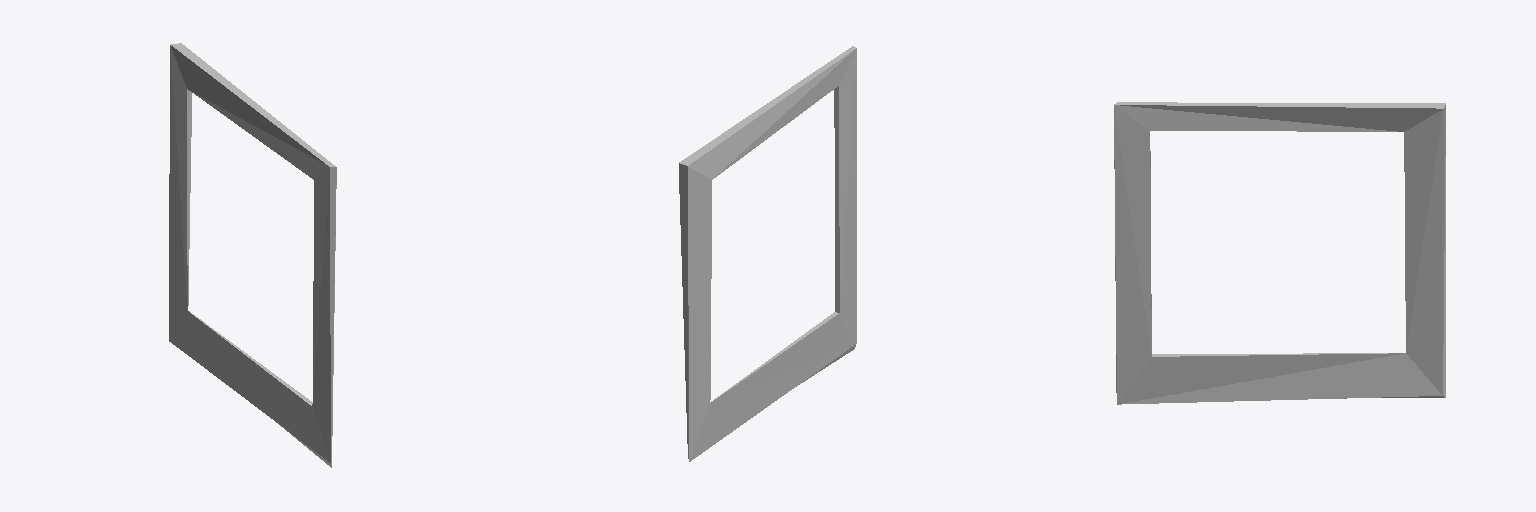
Rendered from Frame2.obj.
3 views of the same model, side by side, from view 1: azimuth 30°, elevation 25°; view 2: azimuth 150°, elevation 25°; view 3: azimuth 270°, elevation 25° (orthographic).
Parts seen in each view (by area): view 1: Plane.001; view 2: Plane.001; view 3: Plane.001.
Boxes of the visible parts, <box> form: Plane.001: <box>169,43,336,467</box>; Plane.001: <box>679,46,856,461</box>; Plane.001: <box>1114,102,1445,404</box>.
Bounding box in the file's own units: 1.87 × 35.86 × 35.66.